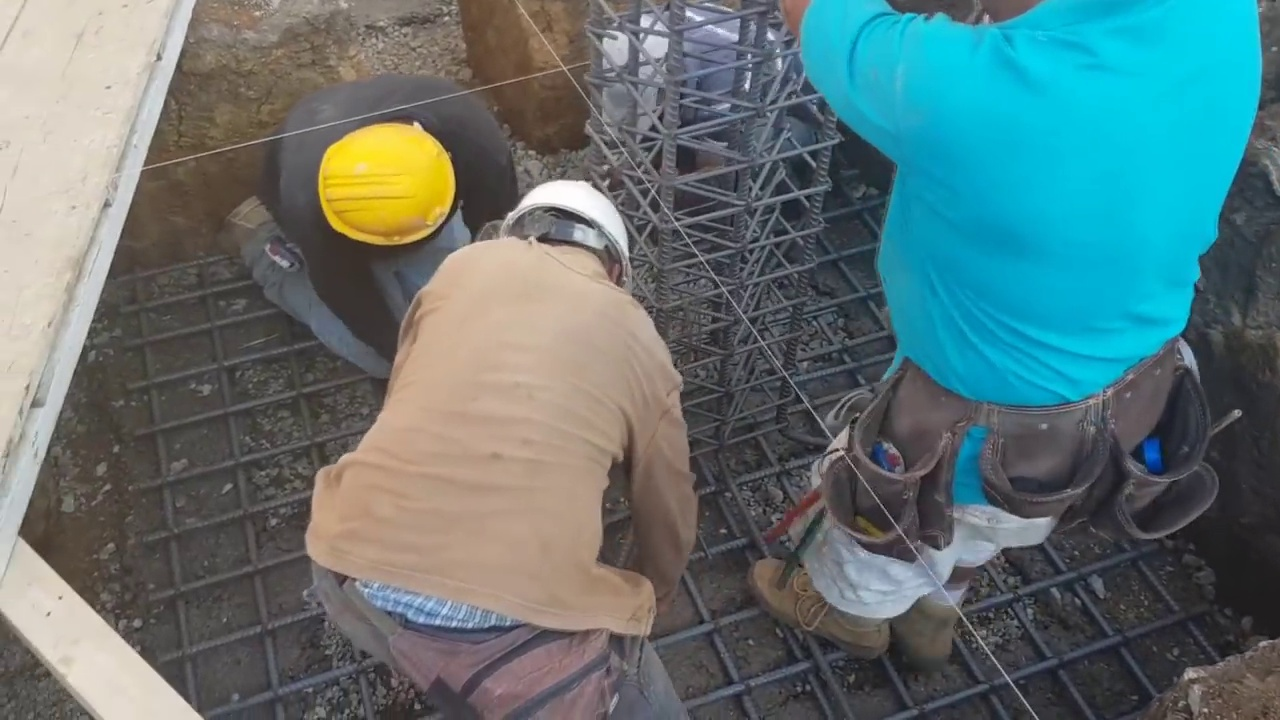helmet: (304, 115, 457, 240), (506, 179, 639, 273)
helmet-off: (598, 16, 695, 139)
helmet-on: (266, 113, 460, 279), (488, 175, 640, 292)
person: (738, 0, 1256, 691), (310, 177, 704, 720), (219, 76, 514, 384), (581, 1, 816, 211)
